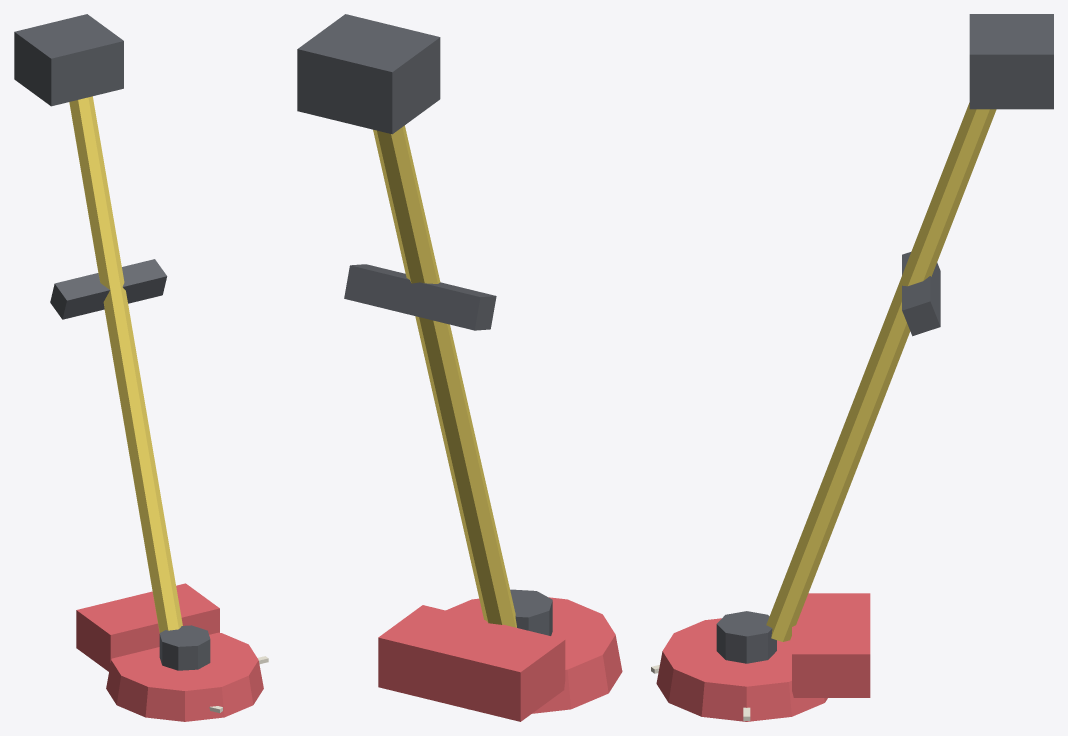
File: lawn-mowing-simulator-kit-string-trimmer-c6f01423__27378.glb
3 renders of one model, left to right at view 1: azimuth 30°, elevation 25°; view 2: azimuth 150°, elevation 25°; view 3: azimuth 270°, elevation 25°, orthographic. The views are drawn at different scales.
Visible parts, largest first — view 1: string-trimmer; view 2: string-trimmer; view 3: string-trimmer.
Boxes of the visible parts, x1=… form: string-trimmer: x1=14, y1=14, x2=268, y2=721; string-trimmer: x1=297, y1=14, x2=622, y2=721; string-trimmer: x1=651, y1=14, x2=1053, y2=721.
Size of the model in its own units: 0.33 by 1.19 by 0.6689.
